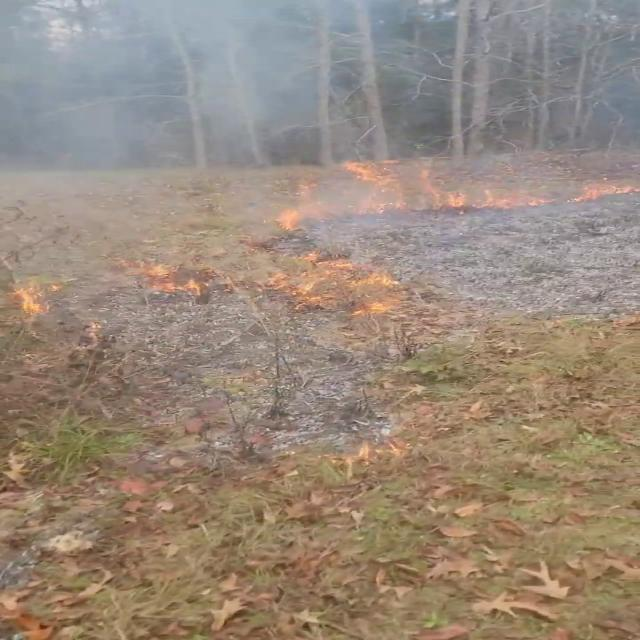Fire: (330, 150, 408, 203)
Smoke: (1, 1, 434, 238)
